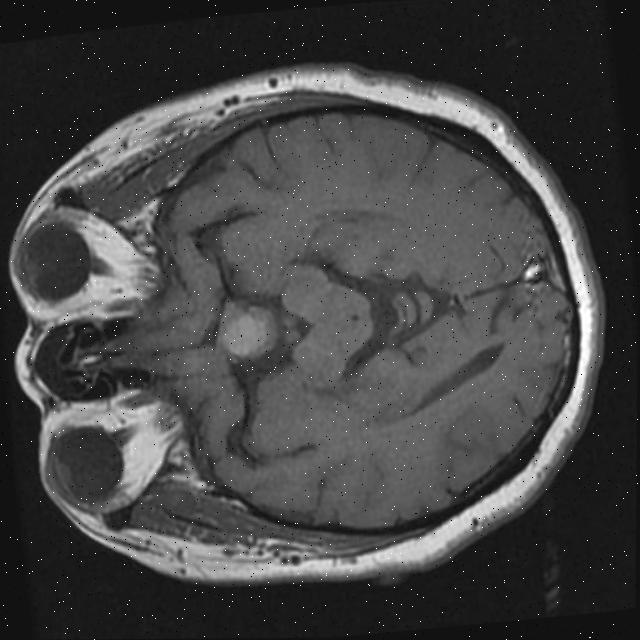Pituitary: (217, 302, 278, 359)
